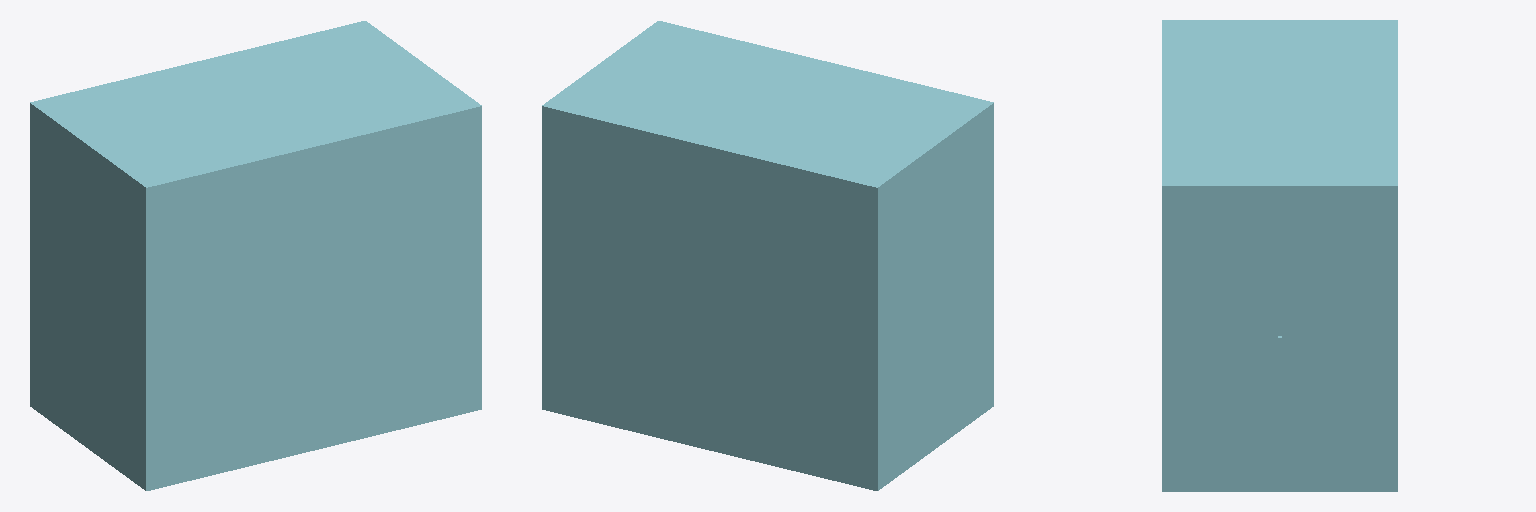
URDF robot description (cuboid_eraser_v7008):
<?xml version="1.0"?>
<robot name="cuboid_eraser_v7008">

  <link name="cuboid_eraser_v7008">
    <!-- Handle -->
    <visual>
      <origin xyz="0 0 0" rpy="0 0 0"/>
      <geometry>
        <box size="0.0809457022423701 0.04874359648115168 0.06987900186314587"/>
      </geometry>
      <material name="material">
        <color rgba="0.639 0.847 0.882 1.0"/>
      </material>
    </visual>
    <collision>
      <origin xyz="0 0 0" rpy="0 0 0"/>
      <geometry>
        <box size="0.0809457022423701 0.04874359648115168 0.06987900186314587"/>
      </geometry>
    </collision>

    <!-- Head -->
    <visual>
      <origin xyz="0.04097285112118505 0 0" rpy="0 0 0"/>
      <geometry>
        <box size="0.001 0.001 0.001"/>
      </geometry>
      <material name="material">
        <color rgba="0.639 0.847 0.882 1.0"/>
      </material>
    </visual>
    <collision>
      <origin xyz="0.04097285112118505 0 0" rpy="0 0 0"/>
      <geometry>
        <box size="0.001 0.001 0.001"/>
      </geometry>
    </collision>

    <inertial>
      <density value="400.0"/>
    </inertial>
  </link>

</robot>

--- Facts derived from the render (not from the file) ---
3 views of the same robot in one strip: view 1: azimuth 30°, elevation 25°; view 2: azimuth 150°, elevation 25°; view 3: azimuth 270°, elevation 25° (orthographic).
Robot: cuboid_eraser_v7008 — 1 links, 0 joints (none); root link cuboid_eraser_v7008; default pose: every joint at zero.
Visible links, largest first — view 1: cuboid_eraser_v7008; view 2: cuboid_eraser_v7008; view 3: cuboid_eraser_v7008.
Link boxes in pixels (x1,y1,x2,y2): cuboid_eraser_v7008: [30, 21, 481, 490]; cuboid_eraser_v7008: [542, 21, 993, 490]; cuboid_eraser_v7008: [1162, 20, 1397, 491].
Bounding box of the posed robot: 0.0819 × 0.0487 × 0.0699 m (x, y, z).
Geometry: primitives only (box / cylinder / sphere), no mesh files.
